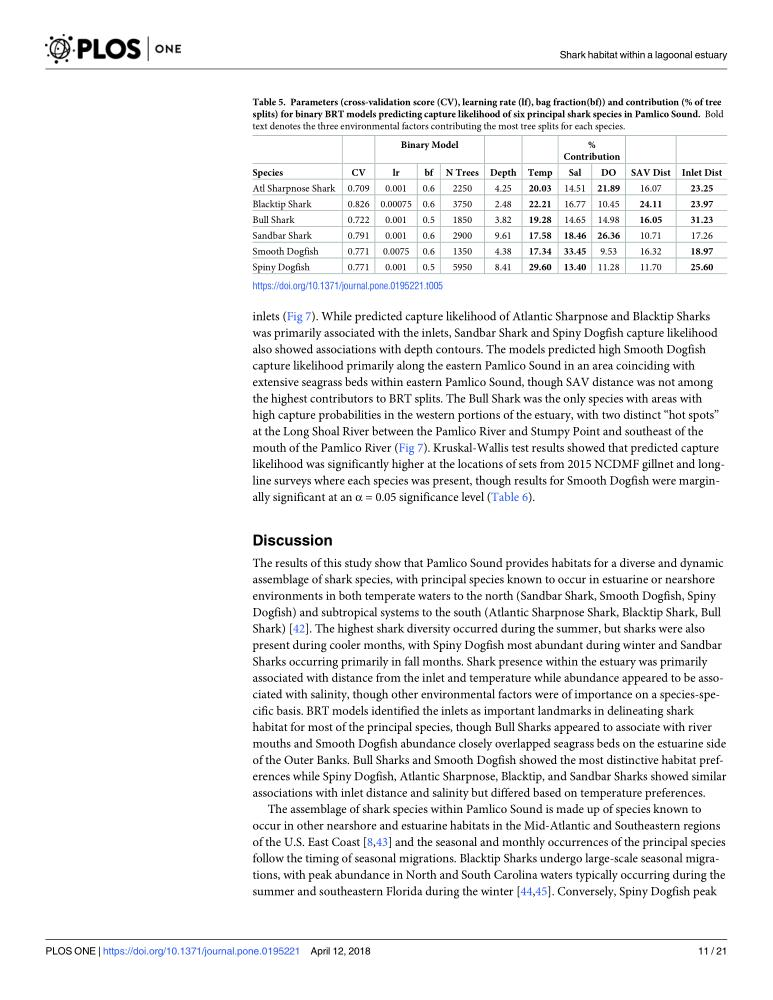table: (252, 140, 721, 272)
